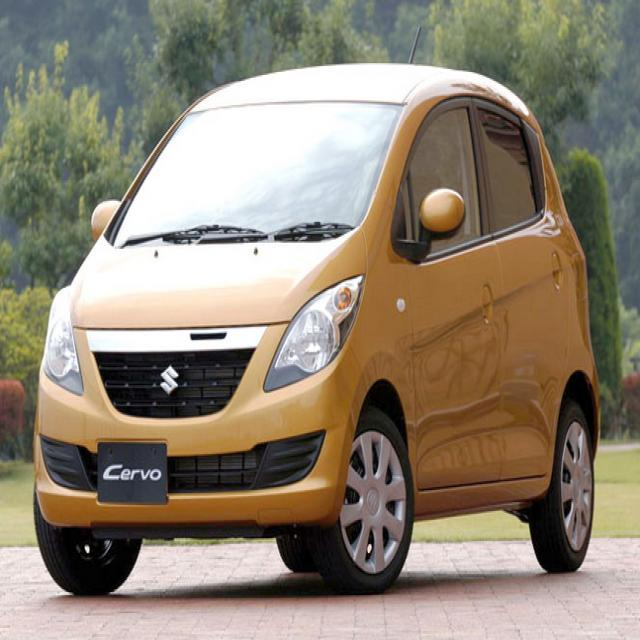car_front: (4, 69, 611, 596)
